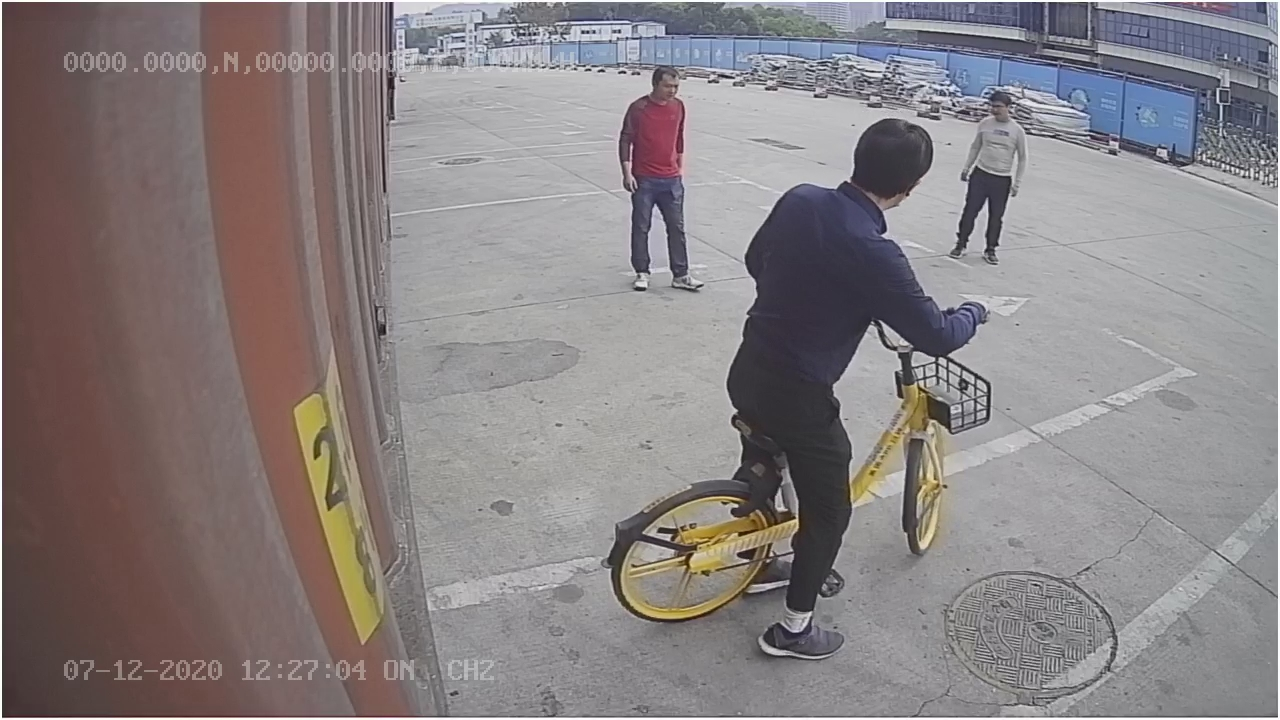person: (611, 60, 711, 295)
